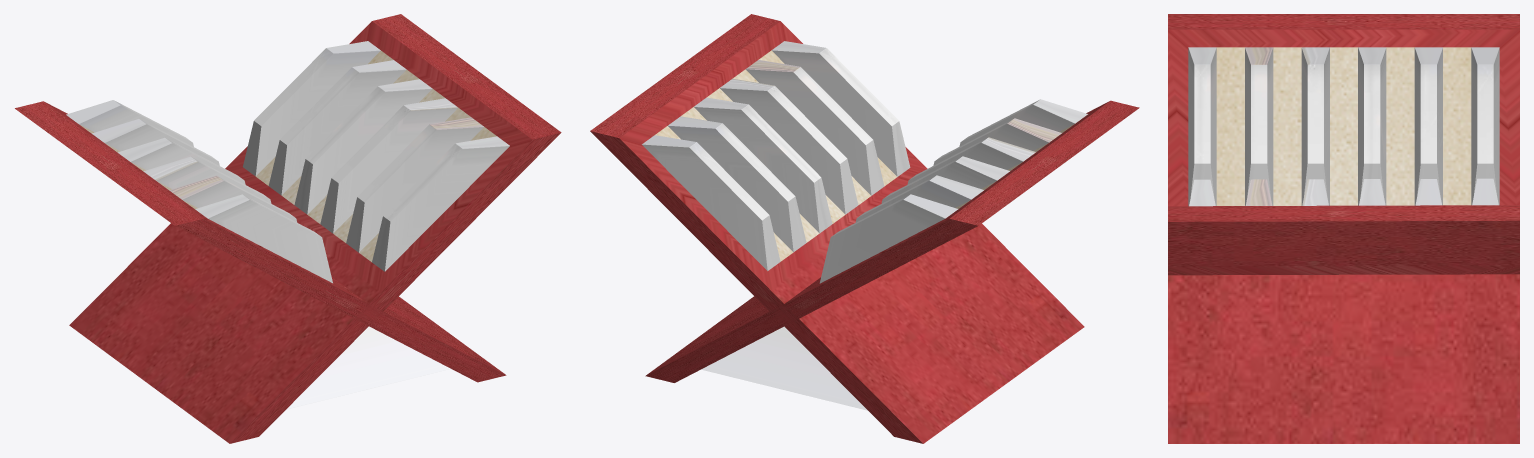
The model's file is dryer.FBX.
3 views of the same model, side by side, from view 1: azimuth 30°, elevation 25°; view 2: azimuth 150°, elevation 25°; view 3: azimuth 270°, elevation 25° (orthographic). The views are drawn at different scales.
Parts seen in each view (by area): view 1: Box001, Object001, Object003, Object002; view 2: Box001, Object001, Object003, Object002; view 3: Box001, Object001, Object002.
Part boxes in pixels (x1=…): Box001: x1=15, y1=14, x2=561, y2=443; Object001: x1=66, y1=41, x2=509, y2=283; Object003: x1=286, y1=326, x2=450, y2=409; Object002: x1=79, y1=51, x2=496, y2=261; Box001: x1=590, y1=14, x2=1139, y2=443; Object001: x1=642, y1=41, x2=1087, y2=283; Object003: x1=701, y1=326, x2=867, y2=410; Object002: x1=655, y1=50, x2=1074, y2=261; Box001: x1=1168, y1=14, x2=1519, y2=443; Object001: x1=1188, y1=47, x2=1499, y2=206; Object002: x1=1216, y1=47, x2=1471, y2=205.
Size of the model in its own units: 125 by 71.59 by 90.01.
Materials: 3 (3 with a texture image).
